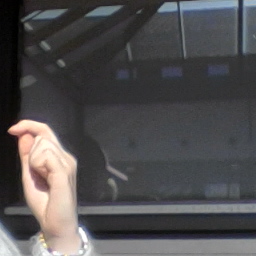T: (5, 117, 85, 228)
